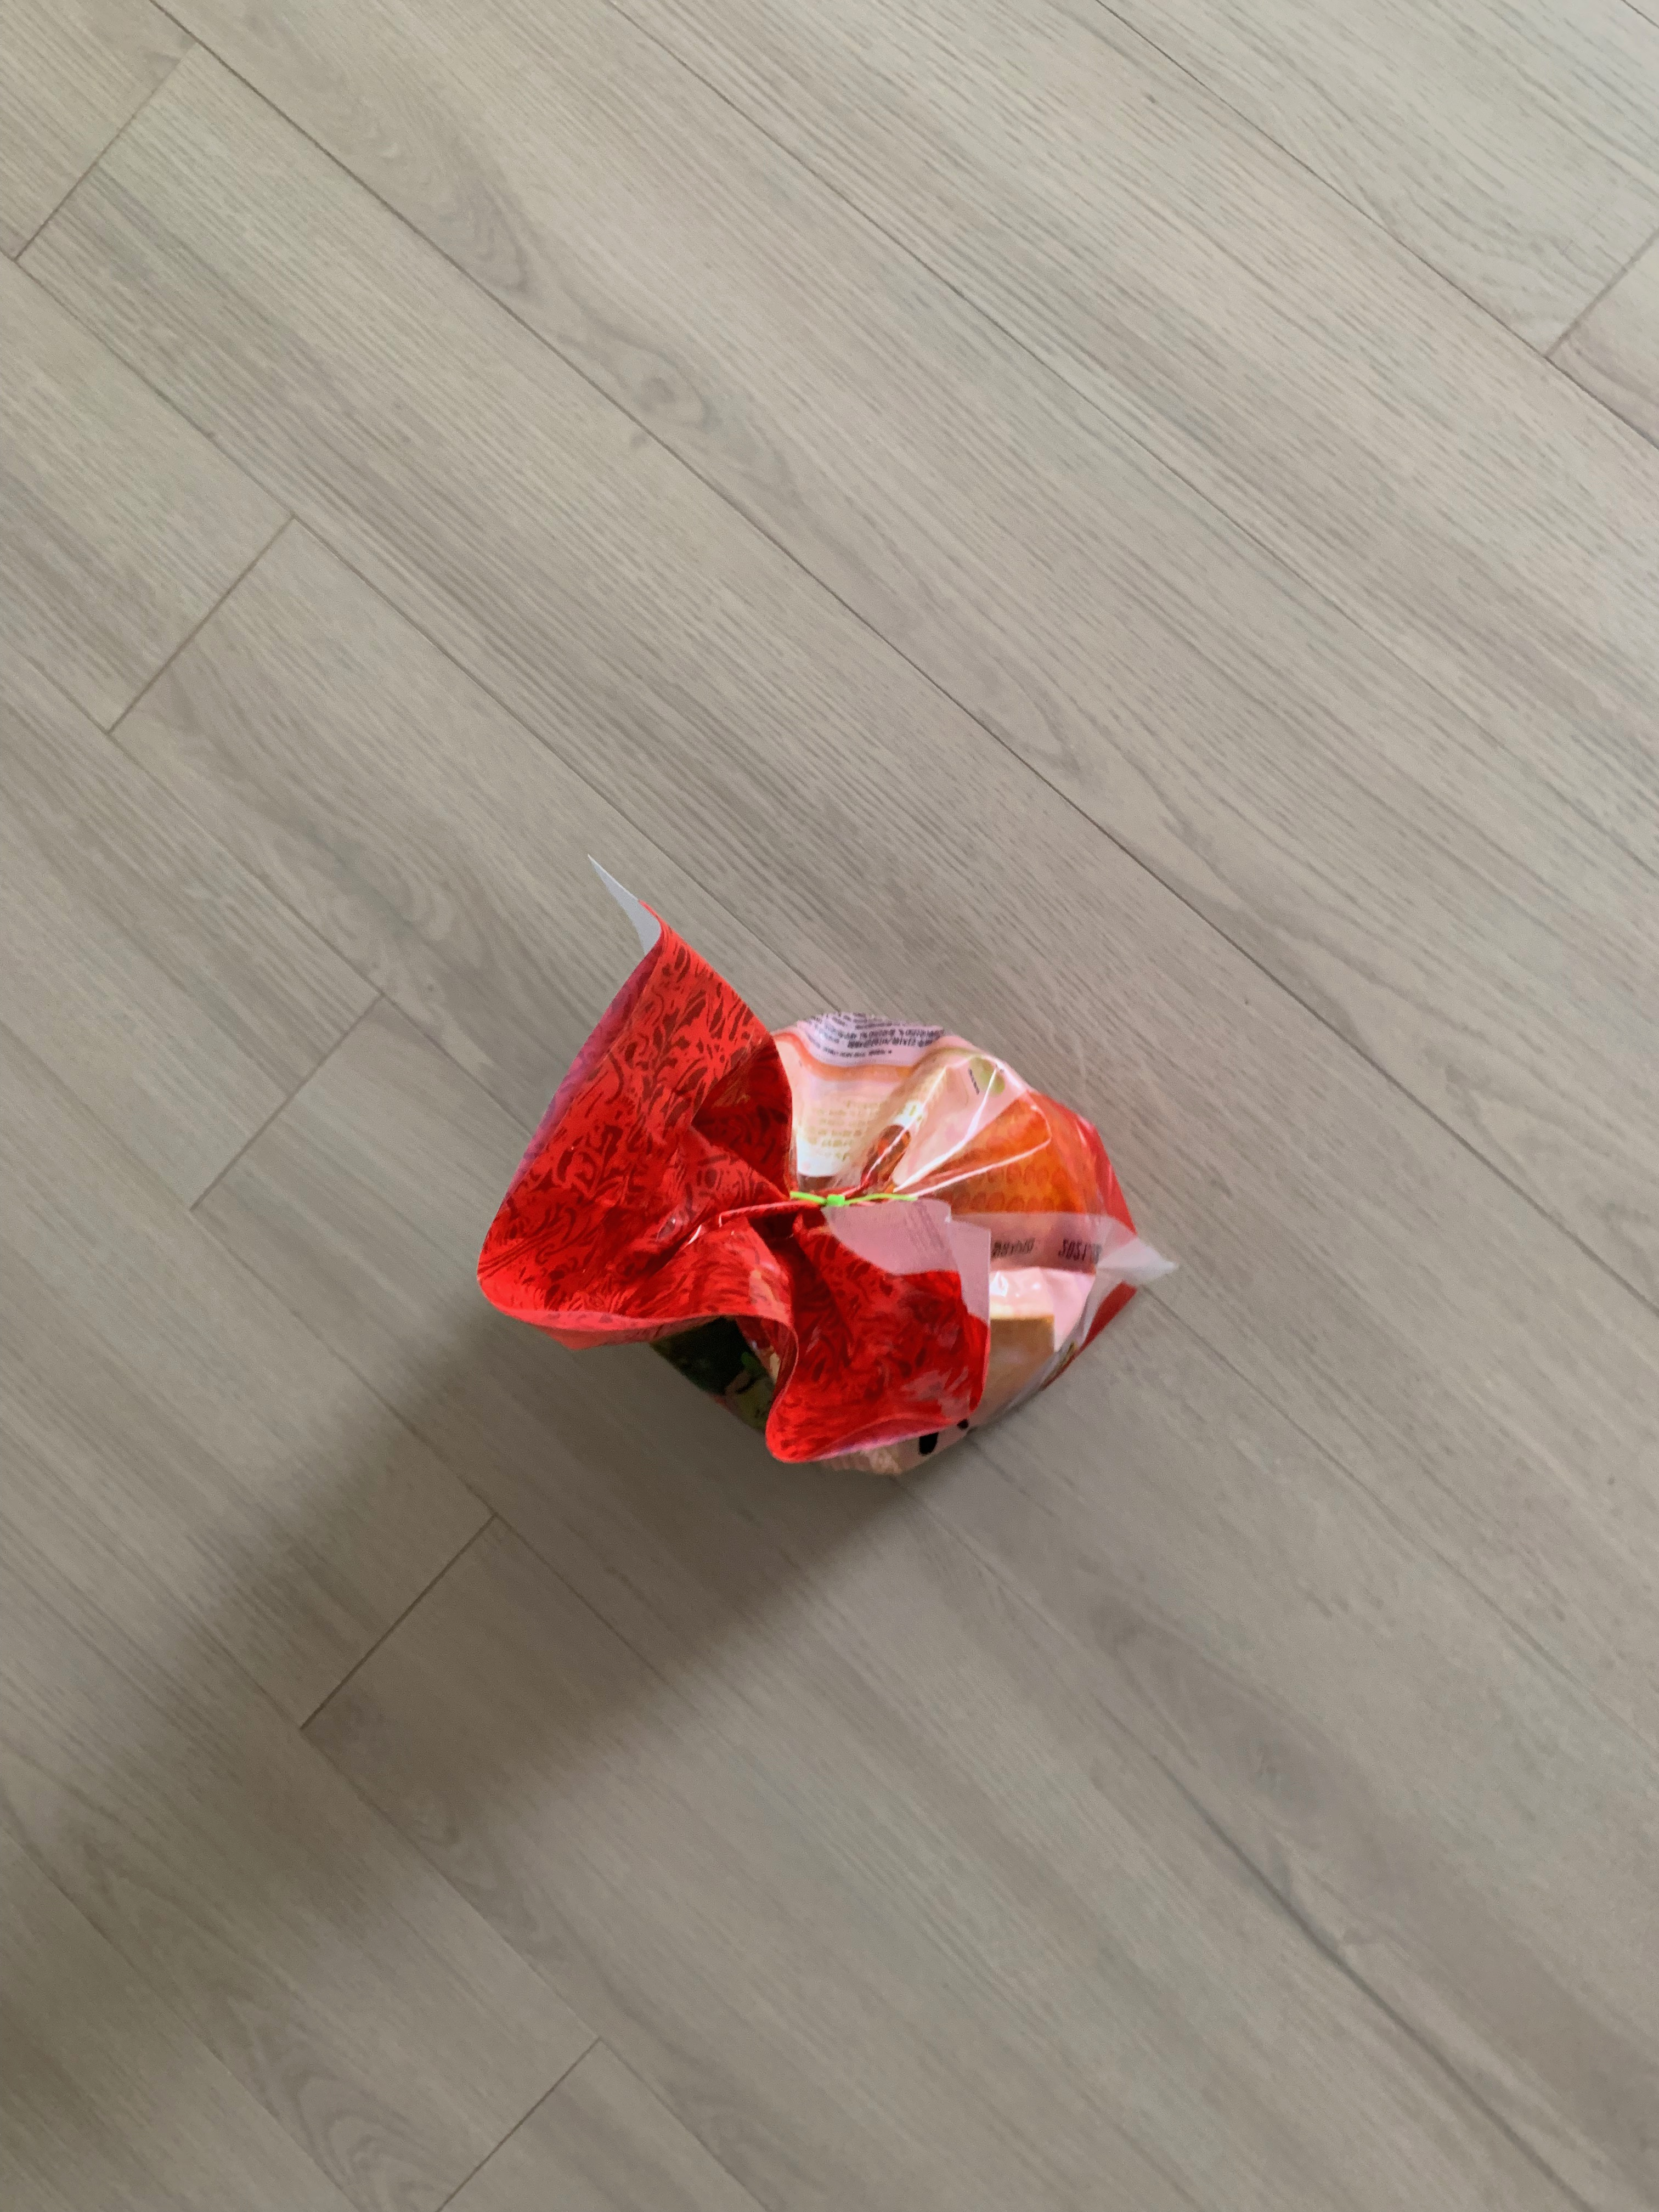kimchi: (479, 928, 1134, 1484)
